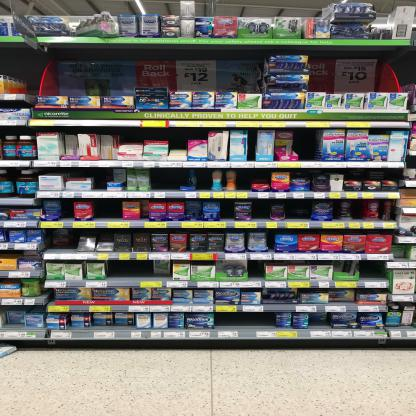Void: (219, 313, 270, 328), (109, 262, 150, 277), (46, 230, 74, 248), (299, 132, 317, 159), (96, 202, 120, 219), (152, 172, 174, 190), (240, 170, 264, 184), (116, 129, 146, 140), (361, 262, 384, 276), (292, 203, 311, 217), (173, 130, 183, 149), (92, 171, 102, 189), (255, 203, 266, 219), (198, 172, 208, 188), (222, 202, 231, 215)
